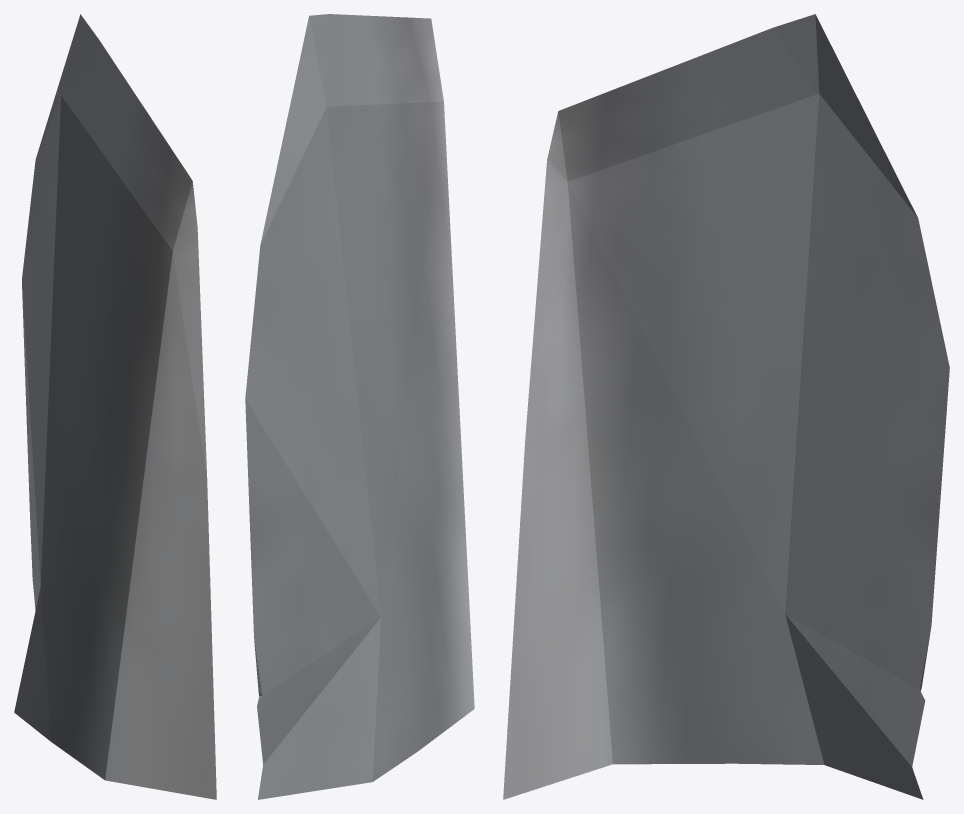
3 views of the same model, side by side, from view 1: azimuth 30°, elevation 25°; view 2: azimuth 150°, elevation 25°; view 3: azimuth 270°, elevation 25° (orthographic). The views are drawn at different scales.
Size of the model in its own units: 0.0102 by 0.1033 by 0.0532.
Materials: 1 (1 with a texture image).
